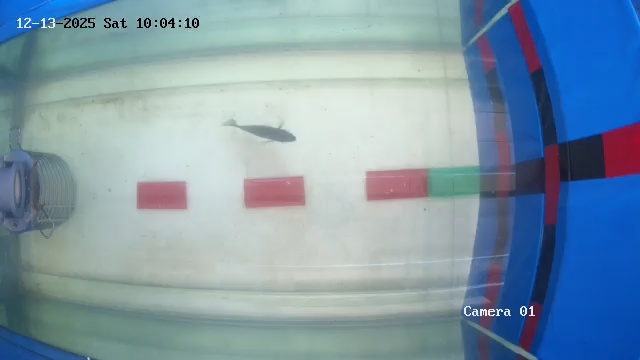fish: (233, 121, 297, 147)
